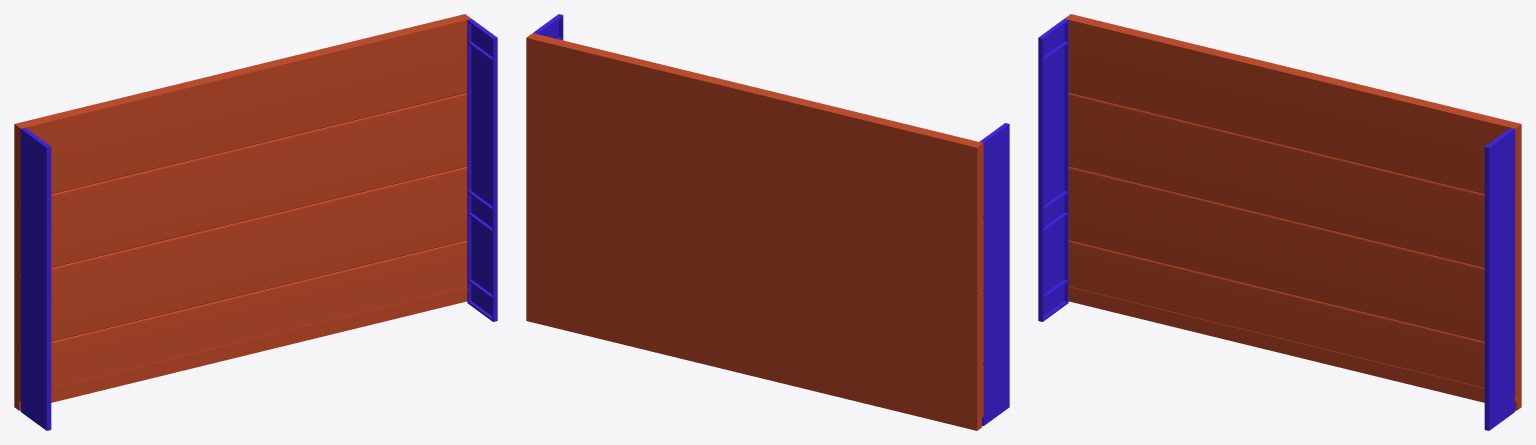
Rendered from Wall_C.glb.
3 views of the same model, side by side, from view 1: azimuth 30°, elevation 25°; view 2: azimuth 150°, elevation 25°; view 3: azimuth 330°, elevation 25° (orthographic).
Parts seen in each view (by area): view 1: Wall_C; view 2: Wall_C; view 3: Wall_C.
Part boxes in pixels (x1,y1,x2,y2): Wall_C: (14, 14, 497, 430); Wall_C: (526, 14, 1009, 430); Wall_C: (1038, 14, 1521, 430).
Bounding box in the file's own units: 10 × 6 × 1.25.
